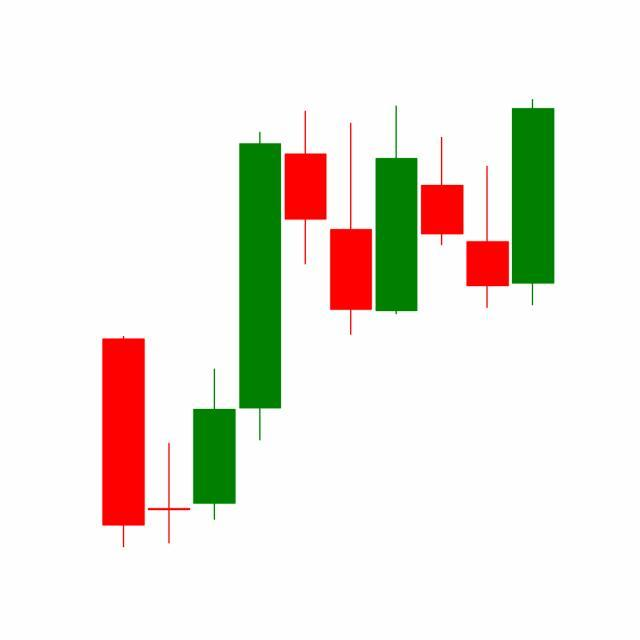Hikkake Pattern: (283, 104, 512, 339)
